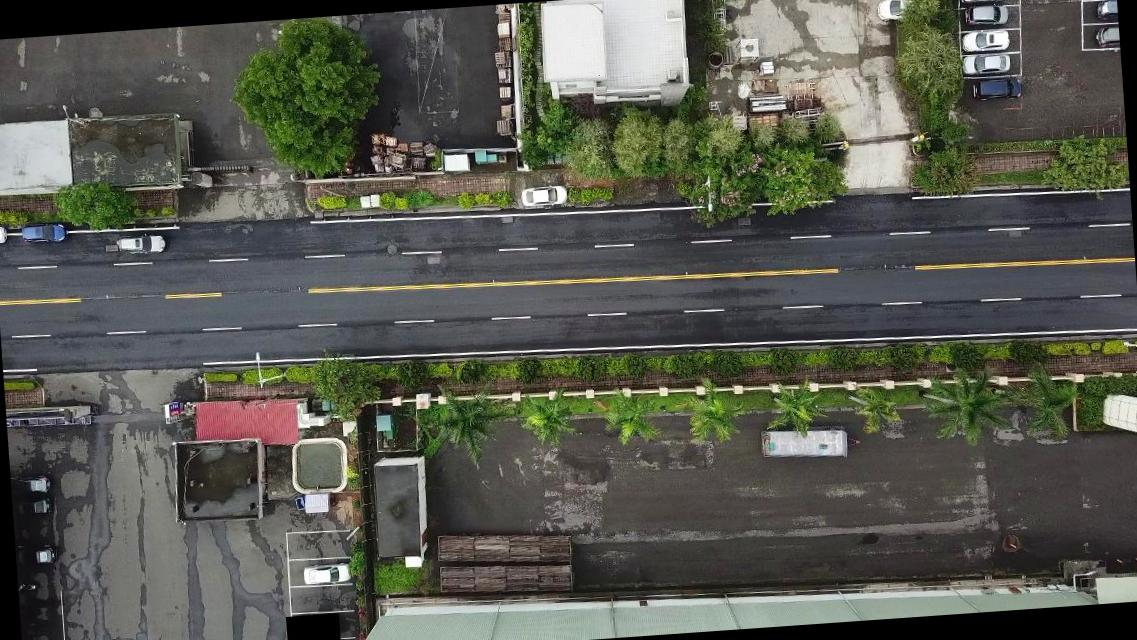vehicle: (972, 76, 1022, 102), (518, 182, 566, 207), (960, 52, 1010, 76), (302, 561, 350, 585), (20, 221, 68, 245), (963, 28, 1010, 52), (115, 233, 164, 256), (16, 542, 57, 567), (876, 0, 919, 23), (964, 4, 1008, 26), (15, 497, 52, 518), (14, 474, 50, 494), (1092, 25, 1118, 51), (1094, 0, 1117, 22), (0, 224, 8, 247)
